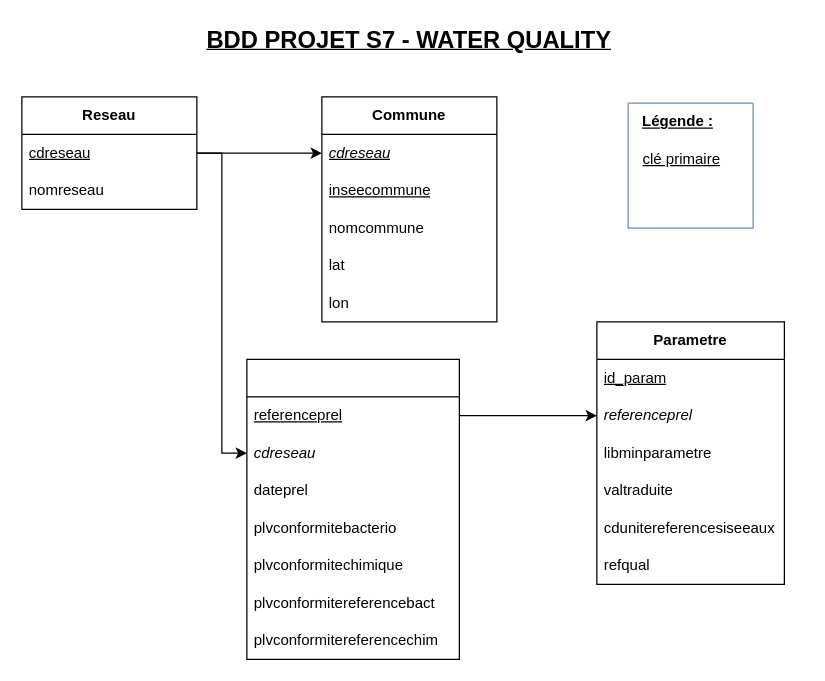
This 825x681 diagram has some shape labels left out. The shapes that lost their labels are listed below. From the top down, each one's box as (x1, y1, x2, y2) in pixels, then its label:
(627, 102, 753, 228): clé étrangère
(246, 358, 459, 659): Prelevement
